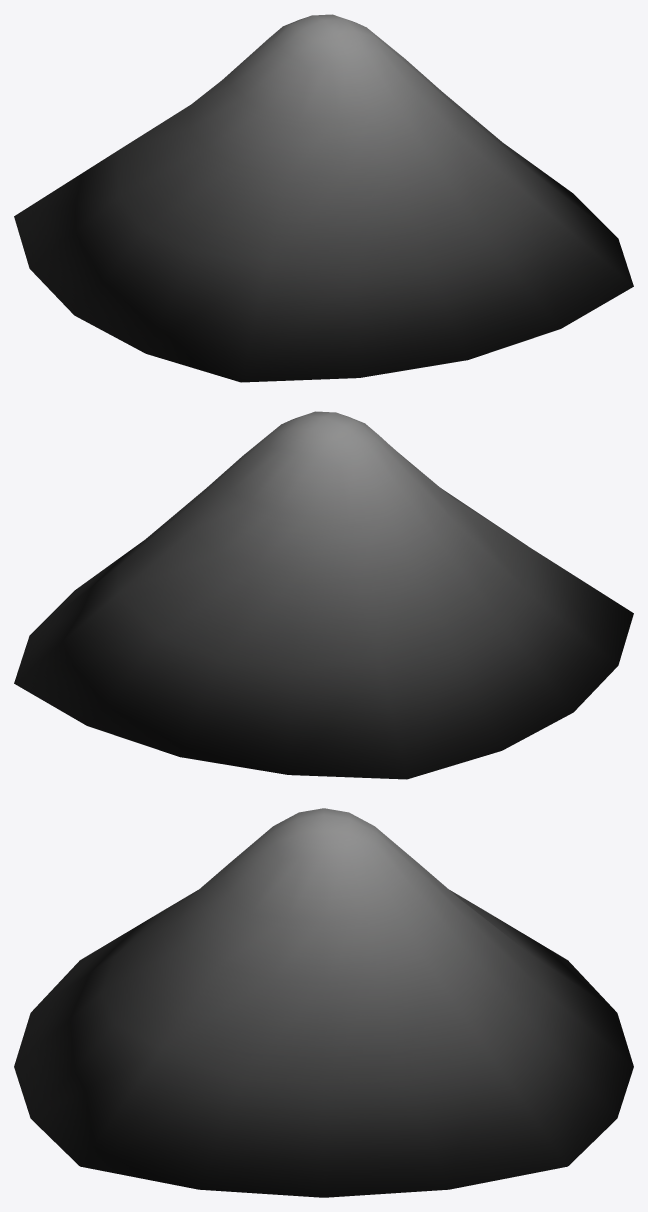
Rendered from SM_Env_Foliage_Mound_Medium.fbx.
The picture shows the model from 3 angles, top to bottom: view 1: azimuth 30°, elevation 25°; view 2: azimuth 150°, elevation 25°; view 3: azimuth 270°, elevation 25°; orthographic projection. The views are drawn at different scales.
Parts seen in each view (by area): view 1: Gundukan Medium; view 2: Gundukan Medium; view 3: Gundukan Medium.
Part boxes in pixels (x1,y1,x2,y2): Gundukan Medium: (14,14,633,382); Gundukan Medium: (14,411,633,779); Gundukan Medium: (14,808,633,1197).
Size of the model in its own units: 425 by 191 by 425.
Materials: 1 (1 with a texture image).
